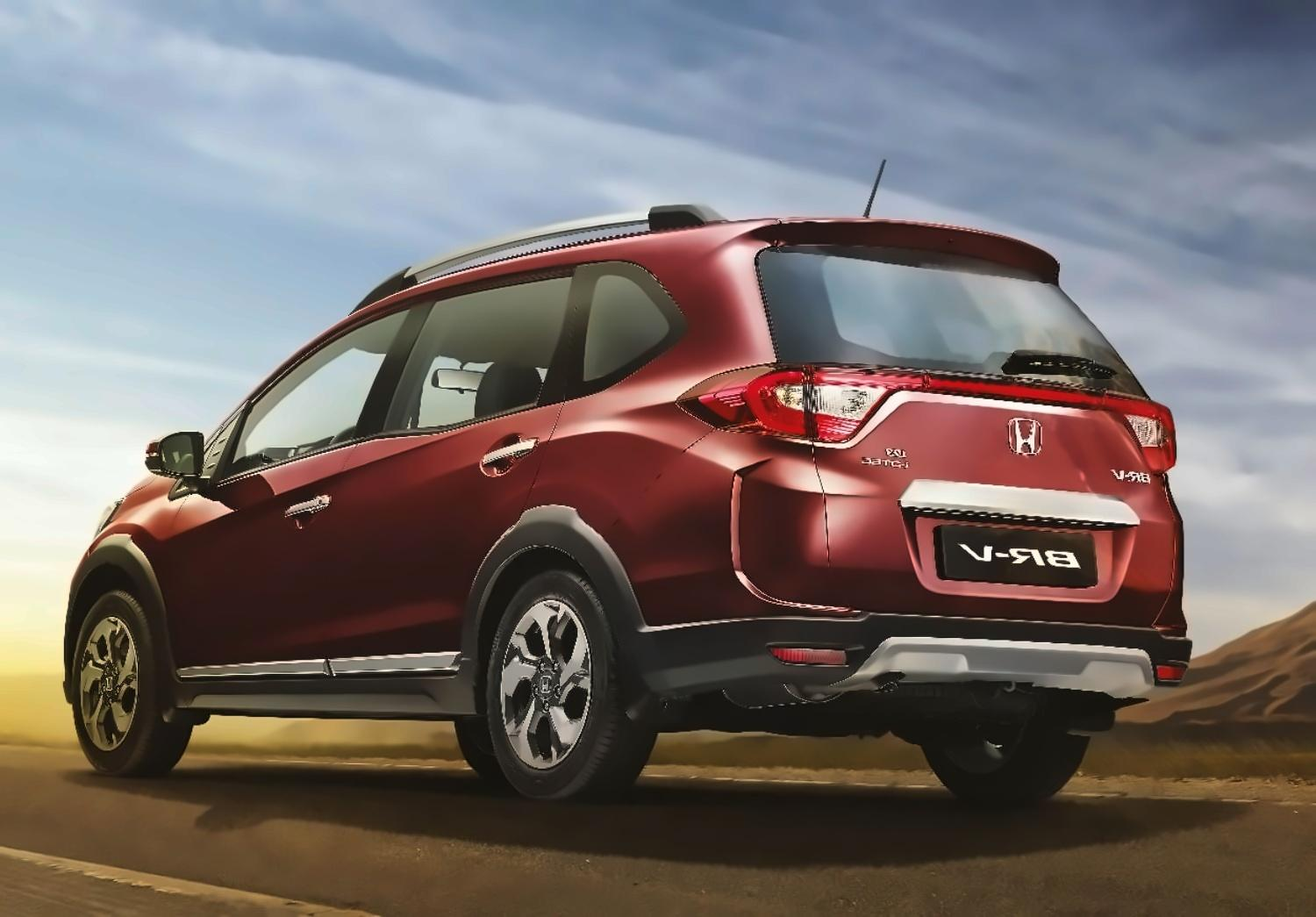Car boot: (763, 212, 1200, 645)
Fender - -R-L-: (500, 186, 789, 584), (59, 455, 196, 729)
Passenger-s door - -F-L-: (151, 266, 430, 746)
Passenger-s door - -R-L-: (302, 209, 591, 730)
Rear bumper: (619, 604, 1205, 743)
Rear light - -L-: (689, 370, 904, 452)
Rear light - -R-: (1082, 385, 1179, 484)
Side bumper - -L-: (161, 650, 485, 742)
Side mirror - -L-: (141, 429, 221, 500)
